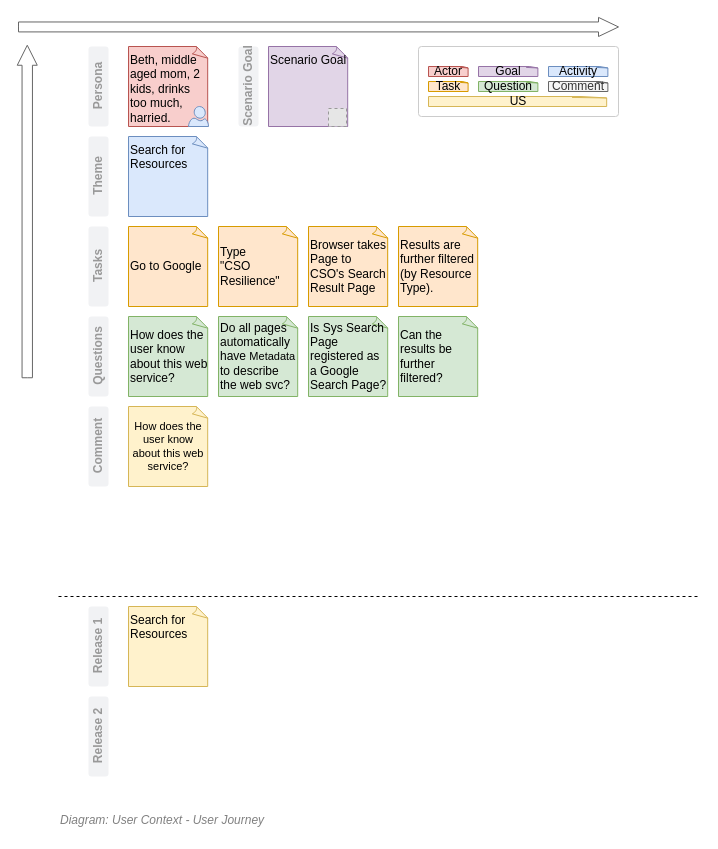
The diagram is 718 pixels wide and 849 high, and some of its shapes have lost their labels. Grey dashed boxes stand in for pictures. Here are the shapes that lost their labels. From the top down, the box of each, then its label:
(18, 16, 618, 36): User Journey
(418, 46, 618, 116): Legend
(16, 44, 37, 378): Priority
